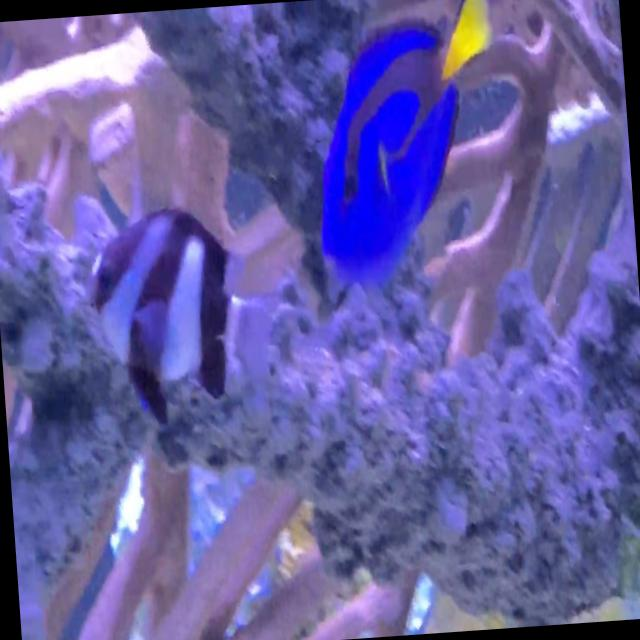ThreeStripedDamselfish: (95, 210, 277, 413)
